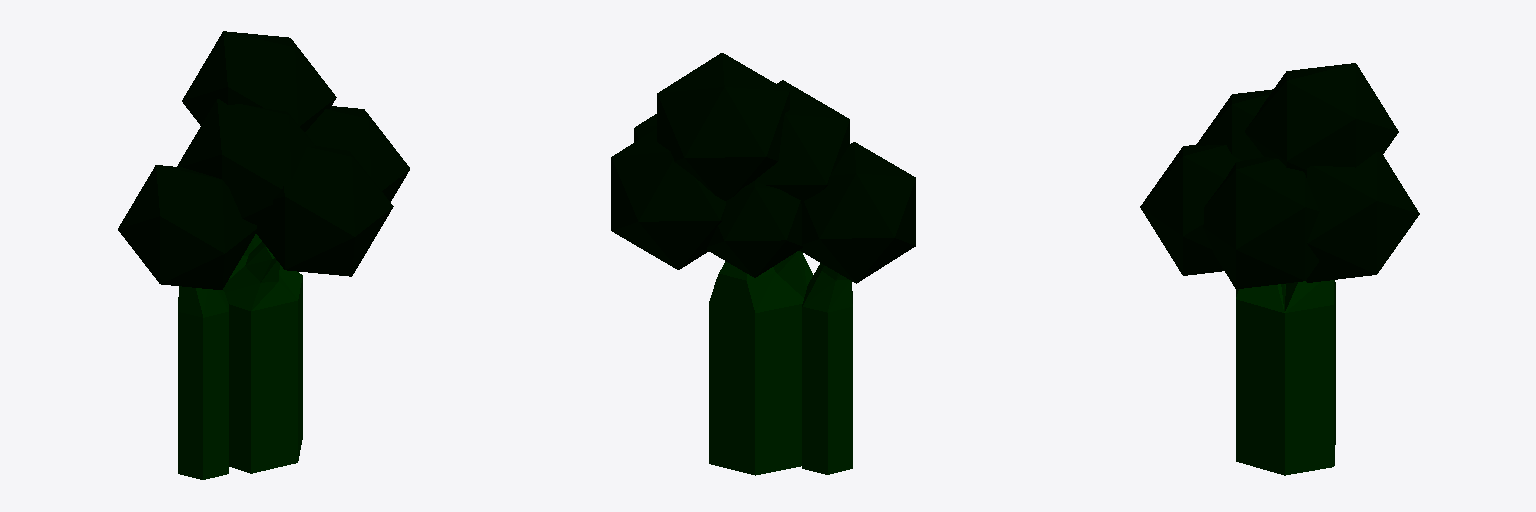
The model's file is Broccoli.obj.
3 renders of one model, left to right at view 1: azimuth 30°, elevation 25°; view 2: azimuth 150°, elevation 25°; view 3: azimuth 270°, elevation 25°, orthographic.
Visible parts, largest first — view 1: pCylinder1, pPlatonic2, pPlatonic3, pCylinder2, pPlatonic4, pPlatonic7, pPlatonic5; view 2: pCylinder1, pPlatonic7, pPlatonic3, pPlatonic6, pCylinder2, pPlatonic1, pPlatonic4; view 3: pCylinder1, pPlatonic5, pPlatonic7, pPlatonic6, pPlatonic2, pPlatonic4.
Boxes of the visible parts, x1=… form: pCylinder1: x1=223, y1=234, x2=302, y2=473; pPlatonic2: x1=256, y1=145, x2=393, y2=276; pPlatonic3: x1=118, y1=165, x2=256, y2=289; pCylinder2: x1=178, y1=286, x2=228, y2=479; pPlatonic4: x1=177, y1=99, x2=315, y2=224; pPlatonic7: x1=182, y1=31, x2=336, y2=131; pPlatonic5: x1=305, y1=106, x2=409, y2=201; pCylinder1: x1=709, y1=251, x2=812, y2=475; pPlatonic7: x1=657, y1=53, x2=789, y2=200; pPlatonic3: x1=799, y1=142, x2=915, y2=283; pPlatonic6: x1=611, y1=129, x2=725, y2=269; pCylinder2: x1=802, y1=263, x2=852, y2=474; pPlatonic1: x1=707, y1=181, x2=802, y2=277; pPlatonic4: x1=755, y1=80, x2=849, y2=206; pCylinder1: x1=1236, y1=280, x2=1335, y2=475; pPlatonic5: x1=1203, y1=157, x2=1319, y2=288; pPlatonic7: x1=1245, y1=63, x2=1398, y2=171; pPlatonic6: x1=1304, y1=152, x2=1419, y2=282; pPlatonic2: x1=1140, y1=145, x2=1241, y2=275; pPlatonic4: x1=1196, y1=89, x2=1273, y2=160.
Size of the model in its own units: 5.19 by 7.31 by 4.74.